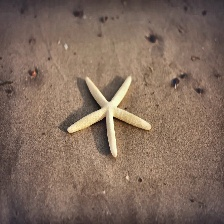starfish: (59, 75, 152, 158)
